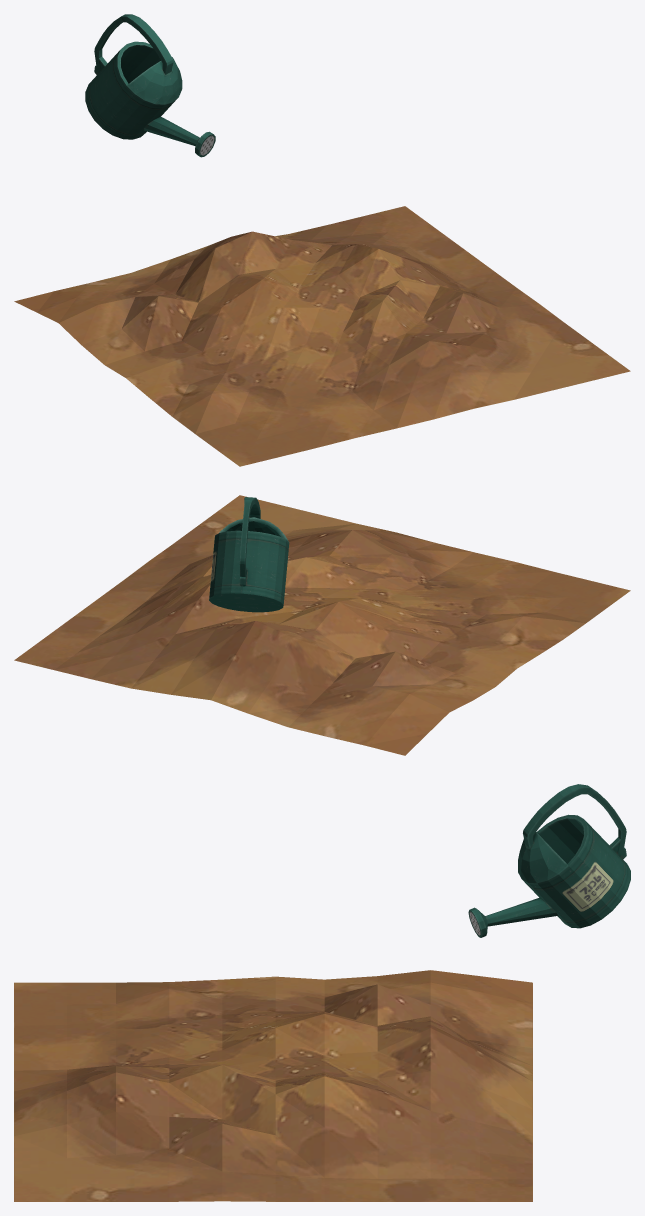
File: P_FlowerPot_011_S1_M03deng.obj
The picture shows the model from 3 angles, top to bottom: view 1: azimuth 30°, elevation 25°; view 2: azimuth 150°, elevation 25°; view 3: azimuth 270°, elevation 25°; orthographic projection. The views are drawn at different scales.
Bounding box in the file's own units: 1.9 × 1.1 × 2.25.
2 materials, 2 textured.
